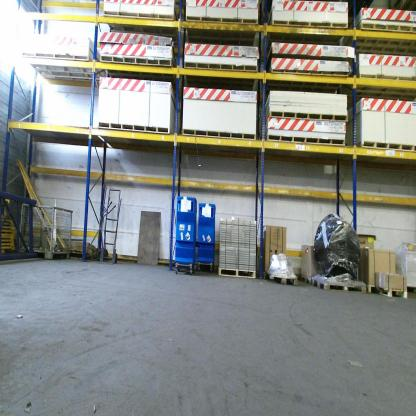pallet: (102, 6, 179, 48), (20, 50, 102, 86), (263, 131, 346, 163), (265, 19, 348, 50), (183, 13, 256, 48), (96, 120, 177, 151), (348, 22, 416, 56), (184, 60, 259, 88), (180, 128, 257, 155), (100, 52, 181, 77), (266, 68, 350, 92), (347, 140, 416, 165), (350, 73, 414, 99), (262, 111, 348, 124), (311, 275, 367, 293), (216, 264, 257, 280), (266, 270, 298, 287), (378, 286, 409, 301), (366, 282, 380, 295), (300, 274, 311, 286), (2, 196, 11, 207), (0, 247, 14, 252), (0, 237, 13, 242), (0, 230, 13, 235), (0, 244, 13, 248), (1, 214, 10, 219), (2, 219, 13, 223), (0, 241, 14, 244), (1, 235, 14, 238), (1, 227, 13, 230), (2, 224, 10, 226)
stillage: (15, 201, 72, 261)
